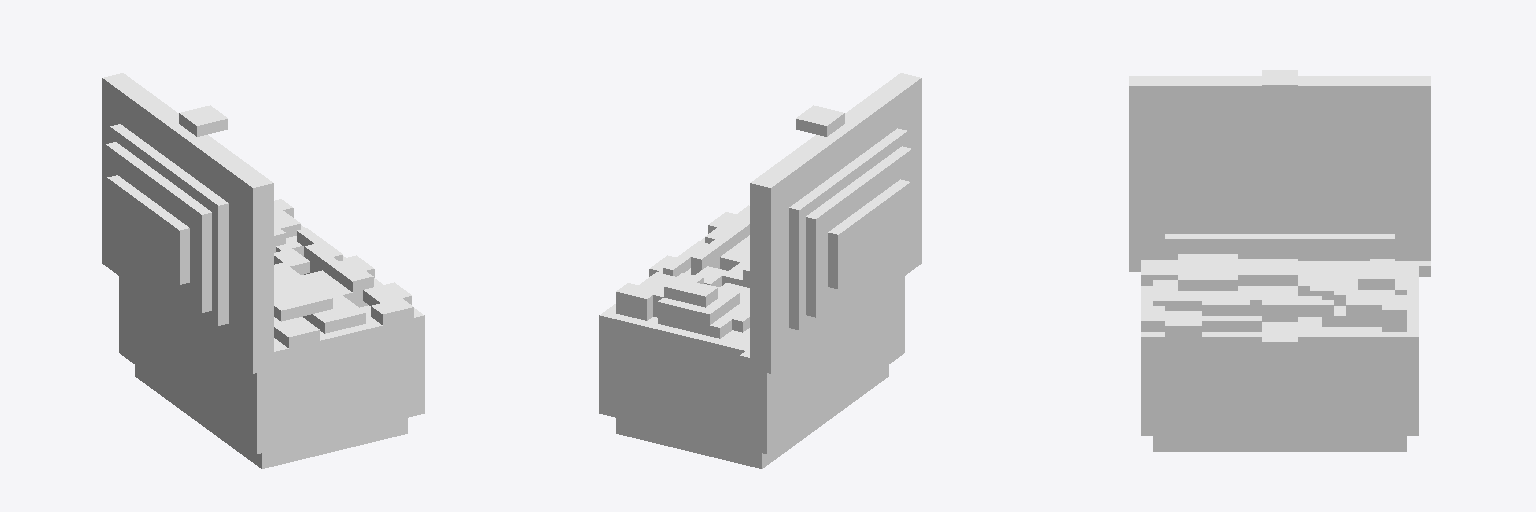
File: chest_open.obj
The picture shows the model from 3 angles: view 1: azimuth 30°, elevation 25°; view 2: azimuth 150°, elevation 25°; view 3: azimuth 270°, elevation 25°; orthographic projection.
Size of the model in its own units: 21 by 28 by 25.